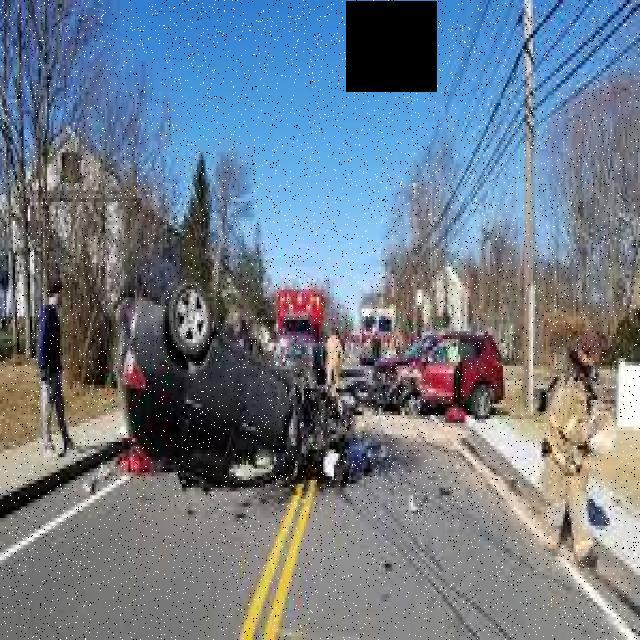severe: (121, 288, 352, 493)
